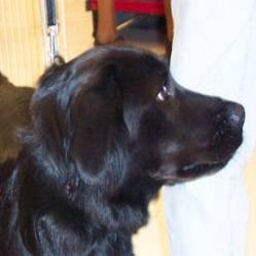dog: (5, 44, 244, 256)
